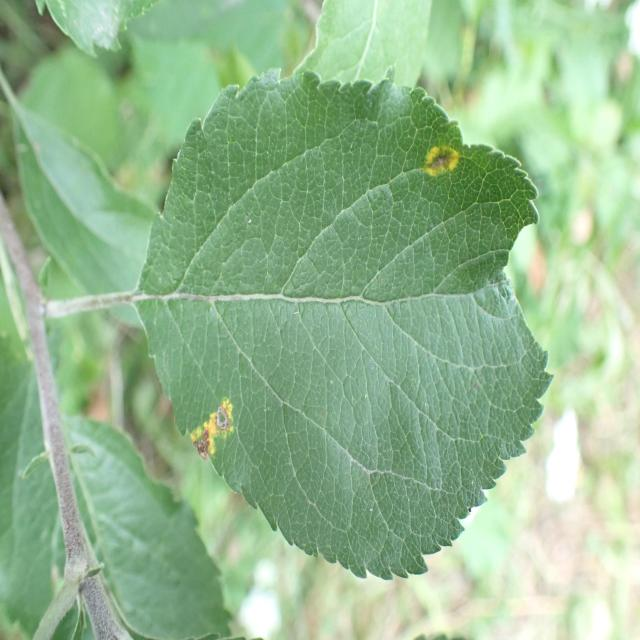Rust: (183, 392, 239, 472), (417, 132, 471, 196)
